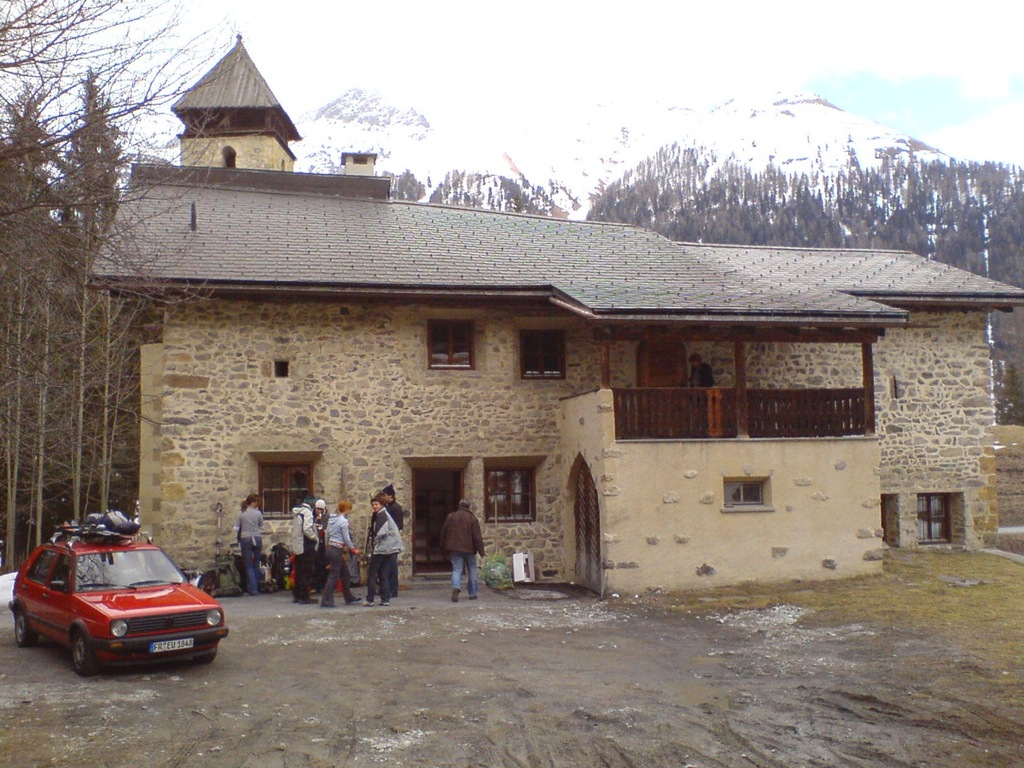Car: (9, 518, 227, 672)
